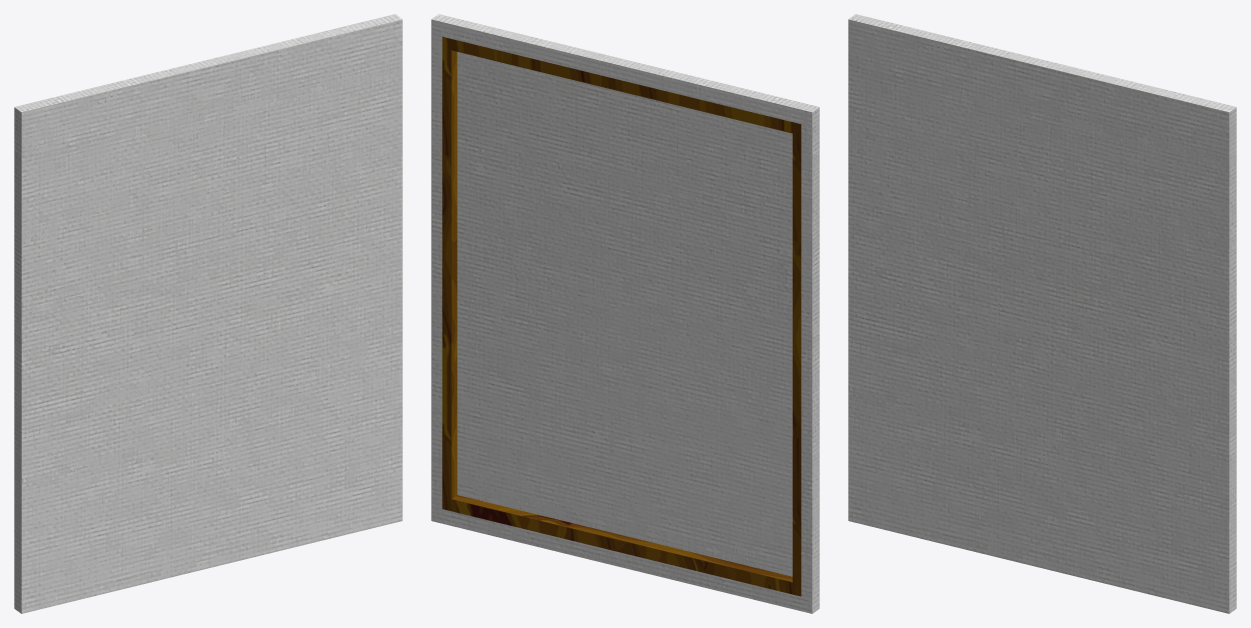
The model's file is painting-c2_dot40.glb.
3 views of the same model, side by side, from view 1: azimuth 30°, elevation 25°; view 2: azimuth 150°, elevation 25°; view 3: azimuth 330°, elevation 25° (orthographic).
Visible parts, largest first — view 1: painting_canvas.002; view 2: painting_canvas.002, painting_canvas.001; view 3: painting_canvas.002.
Boxes of the visible parts, x1,y1,x2,y2 form: painting_canvas.002: (14,14,402,613); painting_canvas.002: (431,14,819,613); painting_canvas.001: (442,37,801,596); painting_canvas.002: (848,14,1236,613).
Bounding box in the file's own units: 1.27 × 1.59 × 0.0424.
Materials: 2 (2 with a texture image).
